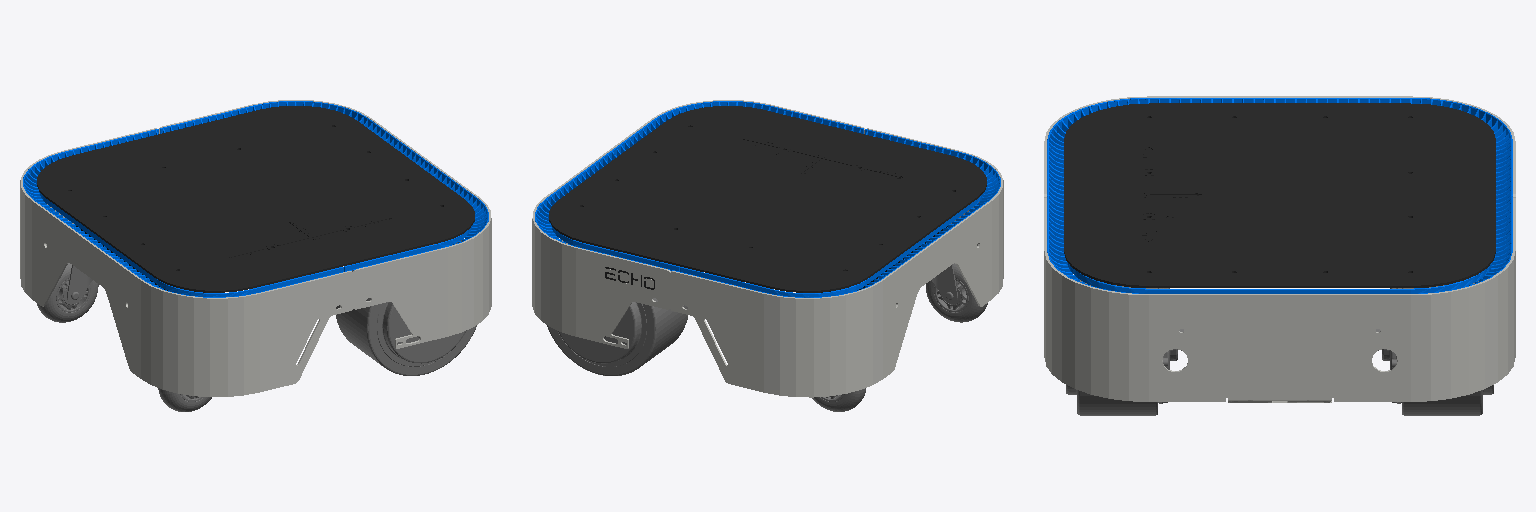
The robot description file, URDF, robot "urdf_echo":
<?xml version="1.0" encoding="utf-8"?>
<!-- This URDF was automatically created by SolidWorks to URDF Exporter! Originally created by [author] ([email redacted]) 
     Commit Version: 1.6.0-4-g7f85cfe  Build Version: 1.6.7995.38578
     For more information, please see http://wiki.ros.org/sw_urdf_exporter -->
<robot
  name="urdf_echo">
  <link
    name="base_link">
    <inertial>
      <origin
        xyz="-0.201 -2.8396E-05 0.096375"
        rpy="0 0 0" />
      <mass
        value="0.30883" />
      <inertia
        ixx="0.0010674"
        ixy="-2.2706E-18"
        ixz="7.678E-21"
        iyy="3.0571E-05"
        iyz="-1.2483E-07"
        izz="0.0010561" />
    </inertial>
    <visual>
      <origin
        xyz="0 0 0"
        rpy="0 0 0" />
      <geometry>
        <mesh
          filename="package://xpkg_urdf_echo/meshes/base_link.STL" />
      </geometry>
      <material
        name="">
        <color
          rgba="0.1 0.1 0.1 1" />
      </material>
    </visual>
    <collision>
      <origin
        xyz="0 0 0"
        rpy="0 0 0" />
      <geometry>
        <mesh
          filename="package://xpkg_urdf_echo/meshes/base_link.STL" />
      </geometry>
    </collision>
  </link>
  <link
    name="rightwheel_Link">
    <inertial>
      <origin
        xyz="1.3878E-17 0.00059703 -4.3368E-19"
        rpy="0 0 0" />
      <mass
        value="0.99346" />
      <inertia
        ixx="0.0013174"
        ixy="-7.7861E-19"
        ixz="-5.4229E-13"
        iyy="0.001702"
        iyz="-2.2911E-20"
        izz="0.0013174" />
    </inertial>
    <visual>
      <origin
        xyz="0 0 0"
        rpy="0 0 0" />
      <geometry>
        <mesh
          filename="package://xpkg_urdf_echo/meshes/rightwheel_Link.STL" />
      </geometry>
      <material
        name="">
        <color
          rgba="0.5 0.5 0.5 1" />
      </material>
    </visual>
    <collision>
      <origin
        xyz="0 0 0"
        rpy="0 0 0" />
      <geometry>
        <mesh
          filename="package://xpkg_urdf_echo/meshes/rightwheel_Link.STL" />
      </geometry>
    </collision>
  </link>
  <joint
    name="rightwheel_Joint"
    type="continuous">
    <origin
      xyz="0 -0.1239 0.061"
      rpy="0 0 0" />
    <parent
      link="base_link" />
    <child
      link="rightwheel_Link" />
    <axis
      xyz="0 -1 0" />
  </joint>
  <link
    name="leftwheel_Link">
    <inertial>
      <origin
        xyz="1.3878E-17 -0.00059703 -1.301E-18"
        rpy="0 0 0" />
      <mass
        value="0.99346" />
      <inertia
        ixx="0.0013174"
        ixy="1.9923E-18"
        ixz="5.4229E-13"
        iyy="0.001702"
        iyz="5.0226E-20"
        izz="0.0013174" />
    </inertial>
    <visual>
      <origin
        xyz="0 0 0"
        rpy="0 0 0" />
      <geometry>
        <mesh
          filename="package://xpkg_urdf_echo/meshes/leftwheel_Link.STL" />
      </geometry>
      <material
        name="">
        <color
          rgba="0.5 0.5 0.5 1" />
      </material>
    </visual>
    <collision>
      <origin
        xyz="0 0 0"
        rpy="0 0 0" />
      <geometry>
        <mesh
          filename="package://xpkg_urdf_echo/meshes/leftwheel_Link.STL" />
      </geometry>
    </collision>
  </link>
  <joint
    name="leftwheel_Joint"
    type="continuous">
    <origin
      xyz="0 0.1239 0.061"
      rpy="0 0 0" />
    <parent
      link="base_link" />
    <child
      link="leftwheel_Link" />
    <axis
      xyz="0 1 0" />
  </joint>
  <link
    name="rightcaster_Link">
    <inertial>
      <origin
        xyz="0.112 0.17941 -0.042737"
        rpy="0 0 0" />
      <mass
        value="8.151E-13" />
      <inertia
        ixx="5.9309E-16"
        ixy="-2.7931E-18"
        ixz="-9.8621E-18"
        iyy="6.8504E-16"
        iyz="-2.994E-19"
        izz="8.0561E-16" />
    </inertial>
    <visual>
      <origin
        xyz="0 0 0"
        rpy="0 0 0" />
      <geometry>
        <mesh
          filename="package://xpkg_urdf_echo/meshes/rightcaster_Link.STL" />
      </geometry>
      <material
        name="">
        <color
          rgba="0.5 0.5 0.5 0.8" />
      </material>
    </visual>
    <collision>
      <origin
        xyz="0 0 0"
        rpy="0 0 0" />
      <geometry>
        <mesh
          filename="package://xpkg_urdf_echo/meshes/rightcaster_Link.STL" />
      </geometry>
    </collision>
  </link>
  <joint
    name="rightcaster_Joint"
    type="continuous">
    <origin
      xyz="-0.201 -0.112 0.1016"
      rpy="0 0 0" />
    <parent
      link="base_link" />
    <child
      link="rightcaster_Link" />
    <axis
      xyz="0 0 1" />
  </joint>
  <link
    name="leftcaster_Link">
    <inertial>
      <origin
        xyz="0.112 -0.044594 -0.042737"
        rpy="0 0 0" />
      <mass
        value="8.151E-13" />
      <inertia
        ixx="5.9301E-16"
        ixy="-2.8584E-22"
        ixz="-9.8666E-18"
        iyy="6.8512E-16"
        iyz="-1.1182E-22"
        izz="8.0561E-16" />
    </inertial>
    <visual>
      <origin
        xyz="0 0 0"
        rpy="0 0 0" />
      <geometry>
        <mesh
          filename="package://xpkg_urdf_echo/meshes/leftcaster_Link.STL" />
      </geometry>
      <material
        name="">
        <color
          rgba="0.5 0.5 0.5 0.5" />
      </material>
    </visual>
    <collision>
      <origin
        xyz="0 0 0"
        rpy="0 0 0" />
      <geometry>
        <mesh
          filename="package://xpkg_urdf_echo/meshes/leftcaster_Link.STL" />
      </geometry>
    </collision>
  </link>
  <joint
    name="leftcaster_Joint"
    type="continuous">
    <origin
      xyz="-0.201 0.112 0.1016"
      rpy="0 0 0" />
    <parent
      link="base_link" />
    <child
      link="leftcaster_Link" />
    <axis
      xyz="0 0 1" />
  </joint>
  <link
    name="logo_Link">
    <inertial>
      <origin
        xyz="-0.046999 0.17993 0.11948"
        rpy="0 0 0" />
      <mass
        value="9.2655E-05" />
      <inertia
        ixx="7.8605E-10"
        ixy="1.5286E-17"
        ixz="-4.2645E-11"
        iyy="1.8138E-09"
        iyz="1.6314E-18"
        izz="1.0278E-09" />
    </inertial>
    <visual>
      <origin
        xyz="0 0 0"
        rpy="0 0 0" />
      <geometry>
        <mesh
          filename="package://xpkg_urdf_echo/meshes/logo_Link.STL" />
      </geometry>
      <material
        name="">
        <color
          rgba="0.2 0.2 0.2 1" />
      </material>
    </visual>
    <collision>
      <origin
        xyz="0 0 0"
        rpy="0 0 0" />
      <geometry>
        <mesh
          filename="package://xpkg_urdf_echo/meshes/logo_Link.STL" />
      </geometry>
    </collision>
  </link>
  <joint
    name="logo_Joint"
    type="continuous">
    <origin
      xyz="0 0 0"
      rpy="0 0 0" />
    <parent
      link="base_link" />
    <child
      link="logo_Link" />
    <axis
      xyz="0 0 -1" />
  </joint>
  <link
    name="front_Link">
    <inertial>
      <origin
        xyz="0.048603 -3.6848E-05 0.093004"
        rpy="0 0 0" />
      <mass
        value="0.8603" />
      <inertia
        ixx="0.016327"
        ixy="-3.2454E-06"
        ixz="0.000221"
        iyy="0.0027732"
        iyz="8.6105E-07"
        izz="0.017863" />
    </inertial>
    <visual>
      <origin
        xyz="0 0 0"
        rpy="0 0 0" />
      <geometry>
        <mesh
          filename="package://xpkg_urdf_echo/meshes/front_Link.STL" />
      </geometry>
      <material
        name="">
        <color
          rgba="0.8 0.8 0.78 1" />
      </material>
    </visual>
    <collision>
      <origin
        xyz="0 0 0"
        rpy="0 0 0" />
      <geometry>
        <mesh
          filename="package://xpkg_urdf_echo/meshes/front_Link.STL" />
      </geometry>
    </collision>
  </link>
  <joint
    name="front_Joint"
    type="continuous">
    <origin
      xyz="0 0 0"
      rpy="0 0 0" />
    <parent
      link="base_link" />
    <child
      link="front_Link" />
    <axis
      xyz="0 0 -1" />
  </joint>
  <link
    name="back_Link">
    <inertial>
      <origin
        xyz="-0.22179 1.0686E-15 0.092502"
        rpy="0 0 0" />
      <mass
        value="0.10596" />
      <inertia
        ixx="0.0023293"
        ixy="-2.8995E-18"
        ixz="-1.1163E-05"
        iyy="0.0003652"
        iyz="-6.3217E-18"
        izz="0.0025234" />
    </inertial>
    <visual>
      <origin
        xyz="0 0 0"
        rpy="0 0 0" />
      <geometry>
        <mesh
          filename="package://xpkg_urdf_echo/meshes/back_Link.STL" />
      </geometry>
      <material
        name="">
        <color
          rgba="0.8 0.8 0.78 1" />
      </material>
    </visual>
    <collision>
      <origin
        xyz="0 0 0"
        rpy="0 0 0" />
      <geometry>
        <mesh
          filename="package://xpkg_urdf_echo/meshes/back_Link.STL" />
      </geometry>
    </collision>
  </link>
  <joint
    name="back_Joint"
    type="continuous">
    <origin
      xyz="0 0 0"
      rpy="0 0 0" />
    <parent
      link="base_link" />
    <child
      link="back_Link" />
    <axis
      xyz="0 0 -1" />
  </joint>
  <link
    name="print_Link">
    <inertial>
      <origin
        xyz="-0.09 6.3838E-16 0.12826"
        rpy="0 0 0" />
      <mass
        value="0.088961" />
      <inertia
        ixx="0.0016111"
        ixy="-3.5315E-08"
        ixz="-2.8513E-19"
        iyy="0.00027351"
        iyz="-4.7067E-19"
        izz="0.0018823" />
    </inertial>
    <visual>
      <origin
        xyz="0 0 0"
        rpy="0 0 0" />
      <geometry>
        <mesh
          filename="package://xpkg_urdf_echo/meshes/print_Link.STL" />
      </geometry>
      <material
        name="">
        <color
          rgba="0 0.5 1 1" />
      </material>
    </visual>
    <collision>
      <origin
        xyz="0 0 0"
        rpy="0 0 0" />
      <geometry>
        <mesh
          filename="package://xpkg_urdf_echo/meshes/print_Link.STL" />
      </geometry>
    </collision>
  </link>
  <joint
    name="print_Joint"
    type="continuous">
    <origin
      xyz="0 0 0"
      rpy="0 0 0" />
    <parent
      link="base_link" />
    <child
      link="print_Link" />
    <axis
      xyz="0 0 -1" />
  </joint>
  <link
    name="upper_Link">
    <inertial>
      <origin
        xyz="-0.090001 6.3907E-05 0.137"
        rpy="0 0 0" />
      <mass
        value="2.101E-12" />
      <inertia
        ixx="1.8078E-14"
        ixy="-1.1344E-19"
        ixz="1.186E-21"
        iyy="1.8069E-14"
        iyz="-1.0325E-19"
        izz="3.6146E-14" />
    </inertial>
    <visual>
      <origin
        xyz="0 0 0"
        rpy="0 0 0" />
      <geometry>
        <mesh
          filename="package://xpkg_urdf_echo/meshes/upper_Link.STL" />
      </geometry>
      <material
        name="">
        <color
          rgba="0.2 0.2 0.2 1" />
      </material>
    </visual>
    <collision>
      <origin
        xyz="0 0 0"
        rpy="0 0 0" />
      <geometry>
        <mesh
          filename="package://xpkg_urdf_echo/meshes/upper_Link.STL" />
      </geometry>
    </collision>
  </link>
  <joint
    name="upper_Joint"
    type="continuous">
    <origin
      xyz="0 0 0"
      rpy="0 0 0" />
    <parent
      link="base_link" />
    <child
      link="upper_Link" />
    <axis
      xyz="0 0 -1" />
  </joint>
  <link
    name="parts_Link">
    <inertial>
      <origin
        xyz="0 0 0"
        rpy="0 0 0" />
      <mass
        value="0" />
      <inertia
        ixx="0"
        ixy="0"
        ixz="0"
        iyy="0"
        iyz="0"
        izz="0" />
    </inertial>
    <visual>
      <origin
        xyz="0 0 0"
        rpy="0 0 0" />
      <geometry>
        <mesh
          filename="package://xpkg_urdf_echo/meshes/parts_Link.STL" />
      </geometry>
      <material
        name="">
        <color
          rgba="0.2 0.2 0.2 1" />
      </material>
    </visual>
    <collision>
      <origin
        xyz="0 0 0"
        rpy="0 0 0" />
      <geometry>
        <mesh
          filename="package://xpkg_urdf_echo/meshes/parts_Link.STL" />
      </geometry>
    </collision>
  </link>
  <joint
    name="parts_Joint"
    type="continuous">
    <origin
      xyz="0 0 0"
      rpy="0 0 0" />
    <parent
      link="base_link" />
    <child
      link="parts_Link" />
    <axis
      xyz="0 0 -1" />
  </joint>
</robot>

--- Render facts (derived) ---
The picture shows the robot from 3 angles, left to right: view 1: azimuth 30°, elevation 25°; view 2: azimuth 150°, elevation 25°; view 3: azimuth 270°, elevation 25°; orthographic projection.
Robot: urdf_echo — 11 links, 10 joints (10 continuous); root link base_link; default pose: every joint at zero.
Links seen in each view (by area): view 1: upper_Link, back_Link, front_Link, print_Link, rightwheel_Link, leftcaster_Link, rightcaster_Link; view 2: upper_Link, back_Link, front_Link, print_Link, leftwheel_Link, rightcaster_Link, leftcaster_Link; view 3: upper_Link, front_Link, print_Link, rightwheel_Link, leftwheel_Link, back_Link.
Boxes of the visible links, left/top/right/bottom form: upper_Link: left=37, top=106, right=474, bottom=292; back_Link: left=20, top=128, right=353, bottom=396; front_Link: left=159, top=100, right=491, bottom=348; print_Link: left=23, top=101, right=488, bottom=297; rightwheel_Link: left=336, top=244, right=476, bottom=375; leftcaster_Link: left=37, top=263, right=98, bottom=322; rightcaster_Link: left=158, top=388, right=211, bottom=411; upper_Link: left=549, top=106, right=986, bottom=292; back_Link: left=670, top=128, right=1003, bottom=397; front_Link: left=532, top=100, right=864, bottom=348; print_Link: left=535, top=101, right=1000, bottom=297; leftwheel_Link: left=547, top=271, right=687, bottom=375; rightcaster_Link: left=926, top=263, right=987, bottom=322; leftcaster_Link: left=812, top=388, right=865, bottom=411; upper_Link: left=1064, top=103, right=1495, bottom=287; front_Link: left=1044, top=197, right=1515, bottom=402; print_Link: left=1047, top=98, right=1512, bottom=293; rightwheel_Link: left=1066, top=280, right=1183, bottom=415; leftwheel_Link: left=1376, top=281, right=1493, bottom=415; back_Link: left=1044, top=96, right=1515, bottom=196.
Bounding box of the posed robot: 0.36 × 0.36 × 0.138 m (x, y, z).
10 mesh visuals loaded from 11 distinct referenced files (10 binary STL); not drawn: 1 (reference not matched to a file when rendering).